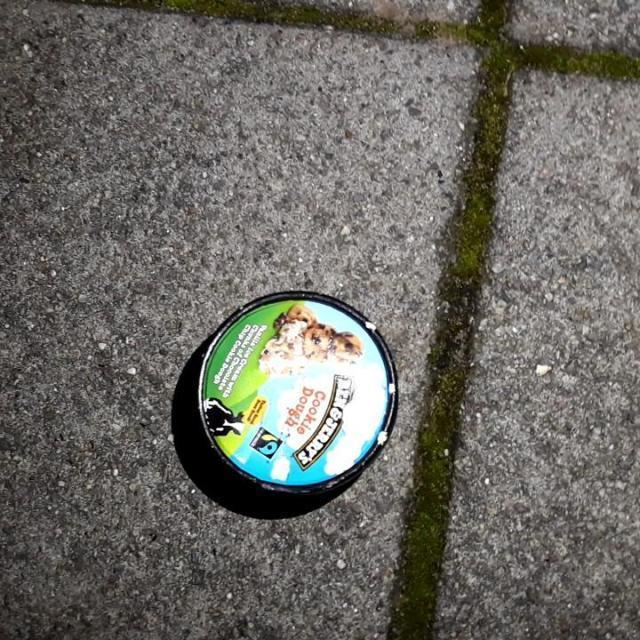Paper: (186, 287, 399, 506)
